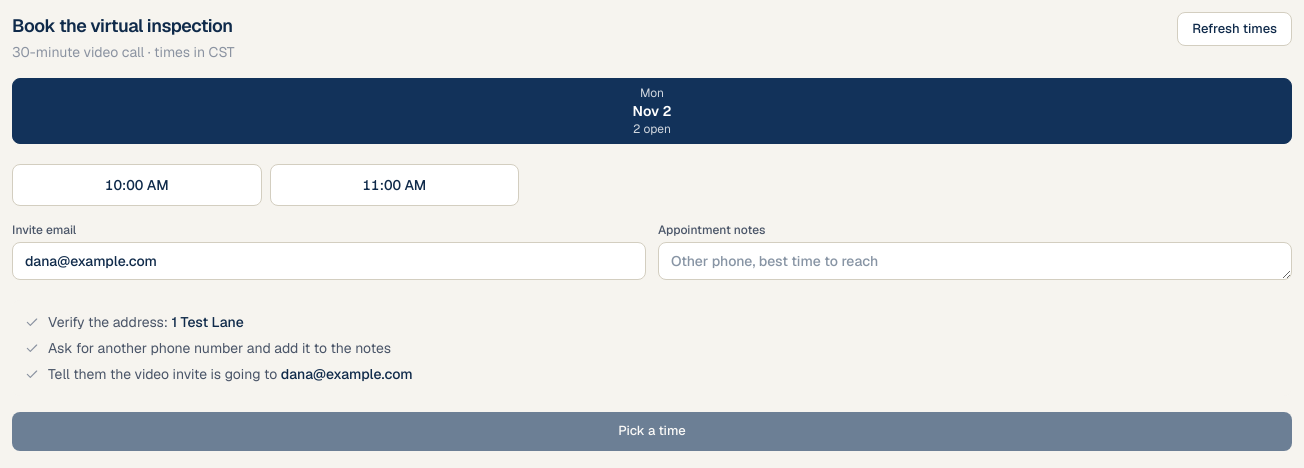
it: setter virtual booking › saved confirmation preserves the company's booking timezone
The width and height of the screenshot is (1304, 468).
Expected: the element named "Inspection time (America/Chicago)" is shown, x1=12 y1=164 x2=519 y2=206
Click the button "10:00 AM": (137, 185) x1=12 y1=164 x2=262 y2=206
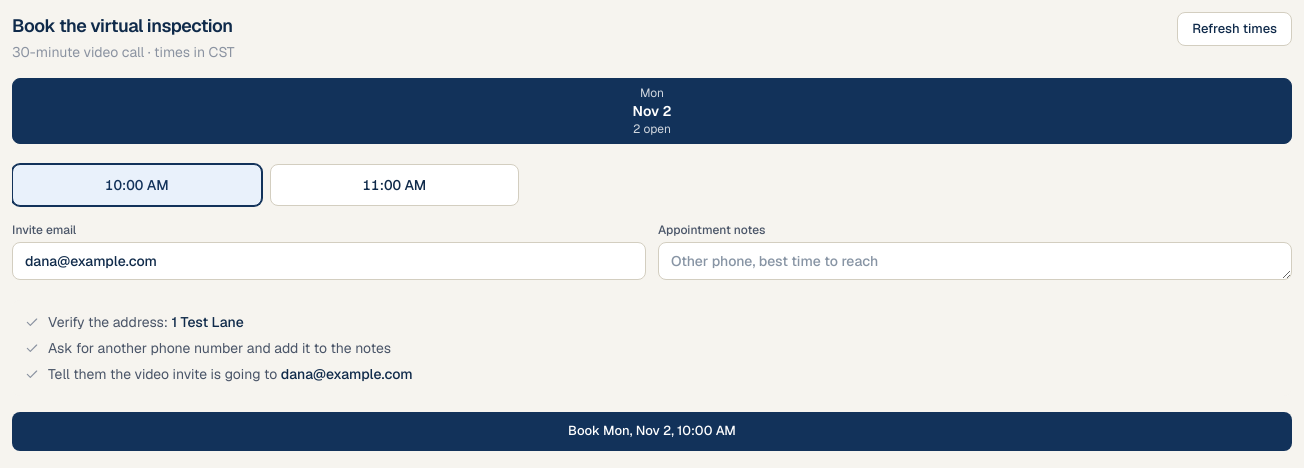
Click the button "Book Mon, Nov 2, 10:00 AM": (652, 431) x1=12 y1=412 x2=1292 y2=451
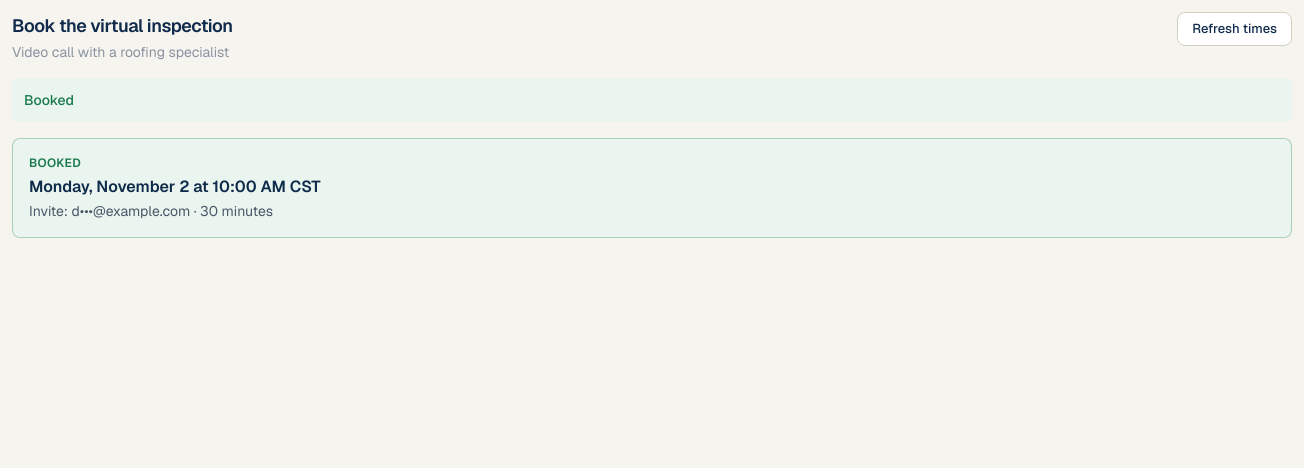
Expected: the message reads "Booked", x1=24 y1=91 x2=74 y2=109
Expected: the text "Monday, November 2 at 10:00 AM CST" is shown, x1=29 y1=175 x2=321 y2=199
